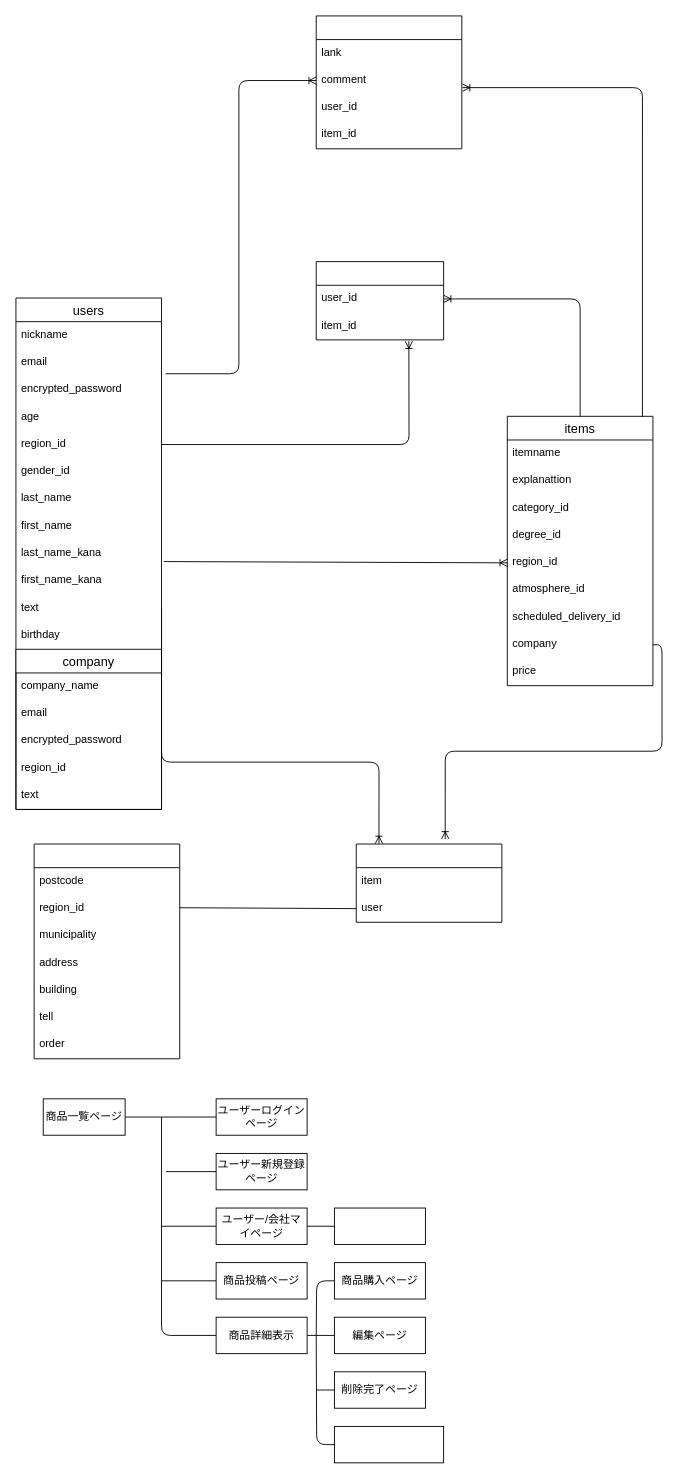
The diagram is 685 pixels wide and 1479 high, and some of its shapes have lost their labels. The box of each missing label's shape, as (x1, y1, x2, y2) in pixels:
comments: (315, 15, 462, 149)
favorities: (315, 261, 444, 340)
orders: (355, 843, 502, 922)
places: (33, 843, 180, 1059)
お気に入り一覧ページ: (334, 1207, 425, 1244)
コメント投稿ページ: (334, 1426, 444, 1463)
